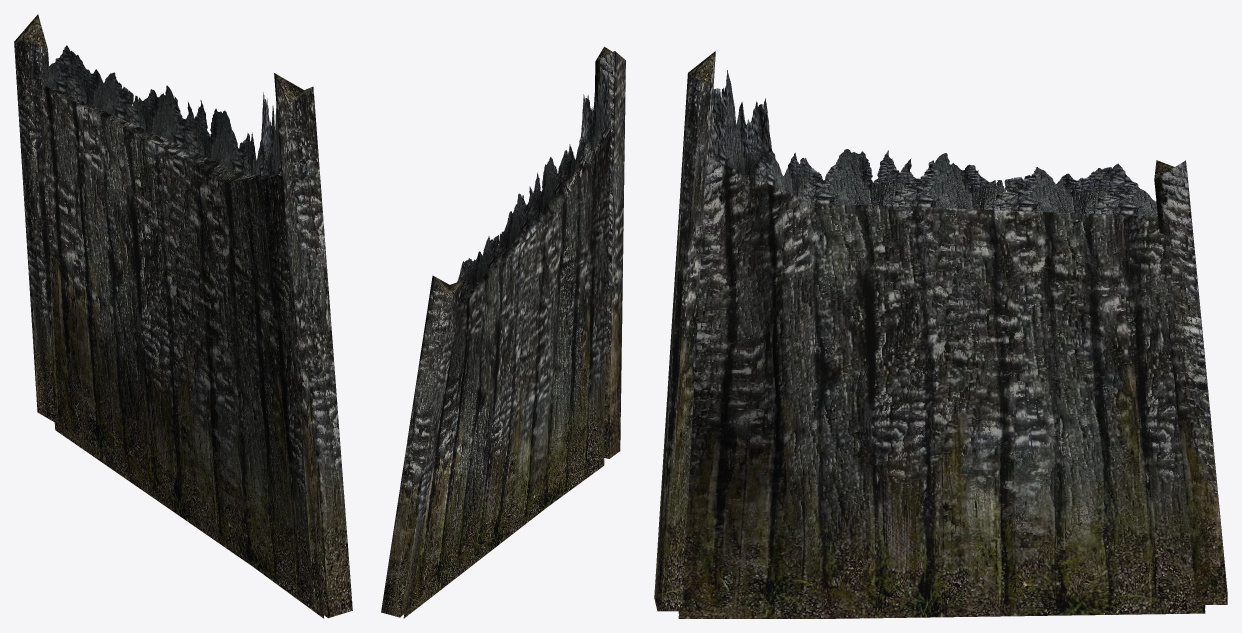
File: OW_MISC_BURNED_WALL_02.glb
3 renders of one model, left to right at view 1: azimuth 30°, elevation 25°; view 2: azimuth 150°, elevation 25°; view 3: azimuth 270°, elevation 25°, orthographic. The views are drawn at different scales.
Parts seen in each view (by area): view 1: Mesh; view 2: Mesh; view 3: Mesh.
Part boxes in pixels (left/top/right/bottom): Mesh: left=14, top=14, right=352, bottom=618; Mesh: left=381, top=46, right=625, bottom=618; Mesh: left=654, top=51, right=1227, bottom=618.
Bounding box in the file's own units: 0.7886 × 5.65 × 4.99.
Materials: 2 (2 with a texture image).
